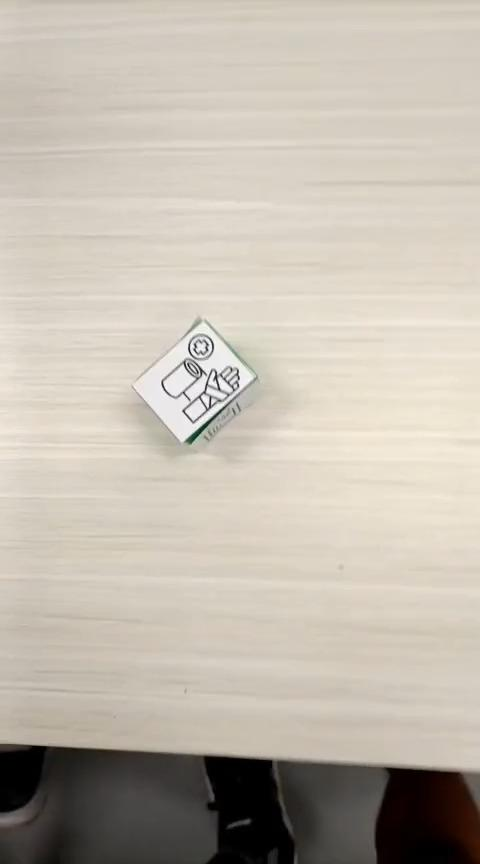Bandages: (130, 315, 259, 447)
